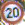20 km speed: (1, 1, 24, 24)
